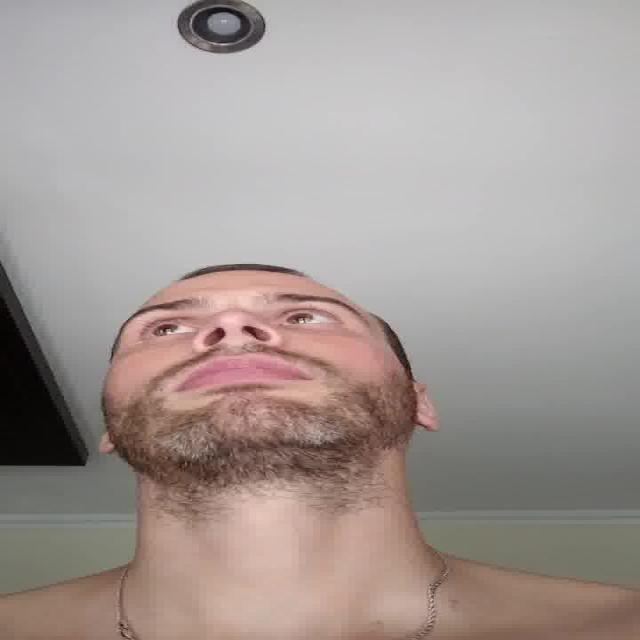earlobe: (414, 418, 443, 433), (100, 436, 120, 455)
eye: (145, 318, 196, 338), (280, 310, 342, 326)
nose: (196, 337, 282, 361)
wholeear: (411, 380, 443, 433)
